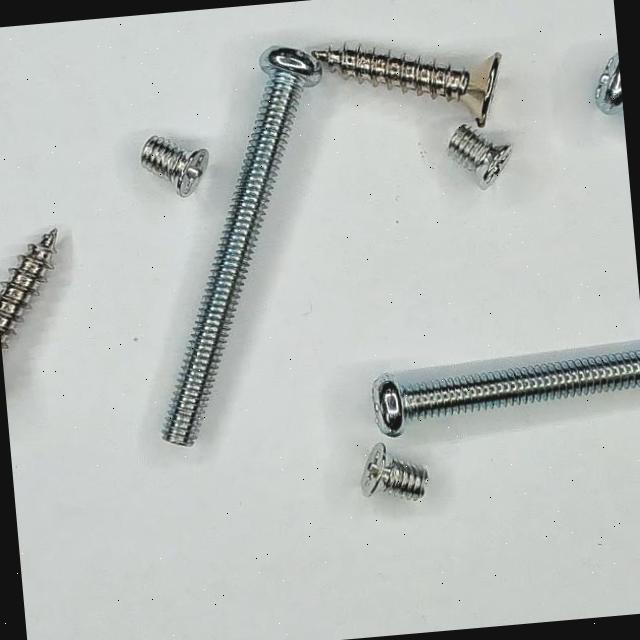Screw: (162, 46, 321, 445), (373, 350, 640, 436), (312, 43, 502, 126), (0, 227, 57, 349), (449, 124, 513, 189), (141, 136, 208, 196), (363, 444, 427, 501), (597, 54, 623, 113)
